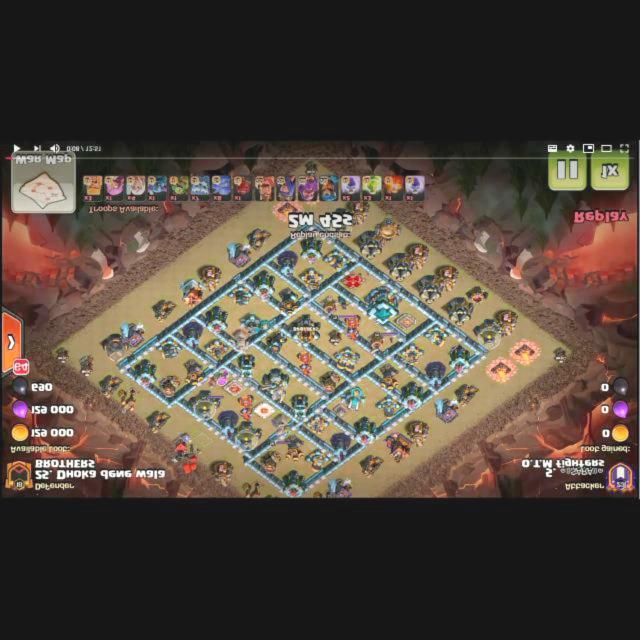AD: (284, 435, 305, 464), (379, 364, 400, 393), (278, 288, 298, 318), (183, 361, 203, 389)
AirSweeper: (367, 331, 386, 356), (320, 296, 339, 317)
BombTower: (291, 396, 309, 422), (239, 355, 256, 382)
Canon: (334, 347, 361, 373), (322, 248, 348, 273), (375, 397, 402, 421), (304, 450, 332, 473), (423, 325, 450, 348), (156, 339, 183, 361), (228, 286, 255, 308)
ClanCastle: (292, 314, 321, 349)
Eagle: (261, 369, 289, 405)
Inferno: (345, 316, 362, 342), (237, 396, 253, 422), (297, 352, 313, 378)
KingPad: (223, 380, 247, 397)
Mortar: (319, 372, 341, 395), (265, 331, 287, 354), (260, 452, 282, 475), (159, 377, 180, 399)
QueenPad: (340, 272, 366, 291)
RcPad: (396, 313, 417, 330)
Scattershot: (240, 312, 270, 337), (341, 387, 366, 413)
TH13: (366, 286, 400, 327)
WardenPad: (252, 402, 276, 419)
WizzTower: (329, 433, 351, 460), (218, 411, 239, 439), (183, 322, 204, 350), (277, 251, 298, 278), (425, 363, 446, 389)
Xbow: (299, 269, 323, 293), (400, 344, 425, 366), (204, 340, 228, 362), (305, 415, 330, 436)
